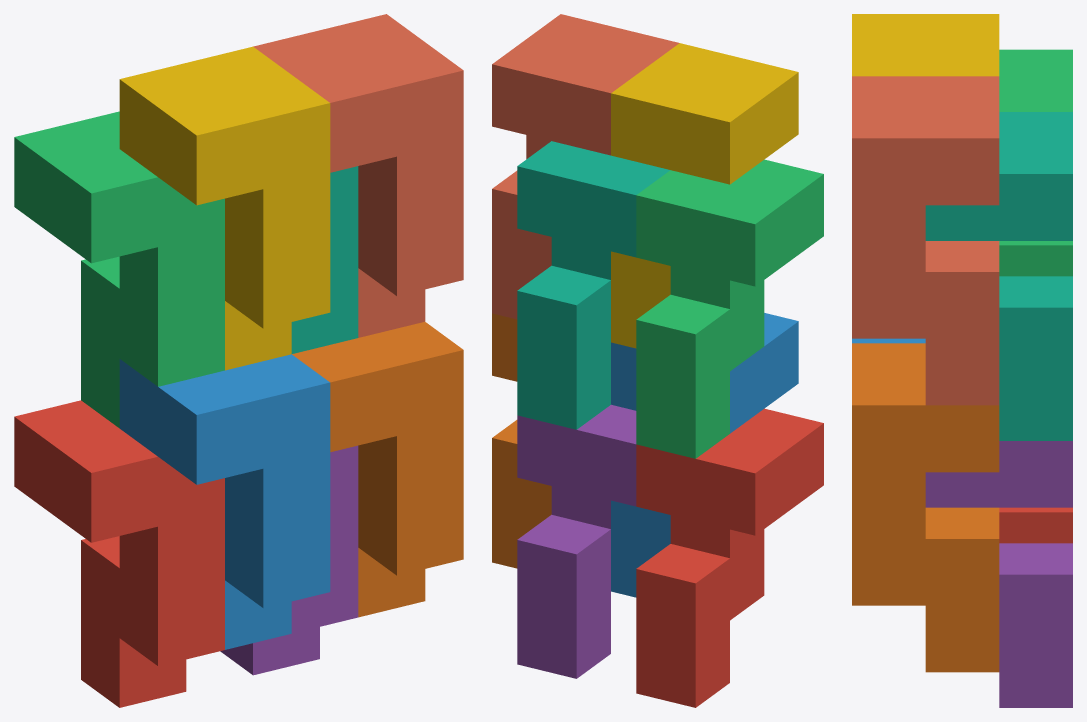
File: tiling.obj
The picture shows the model from 3 angles, left to right: view 1: azimuth 30°, elevation 25°; view 2: azimuth 150°, elevation 25°; view 3: azimuth 270°, elevation 25°; orthographic projection. The views are drawn at different scales.
Parts seen in each view (by area): view 1: copy_1_domain_4, copy_1_domain_1, copy_1_domain_3, copy_1_domain_2, copy_1_domain_8, copy_1_domain_6, copy_1_domain_5, copy_1_domain_7; view 2: copy_1_domain_3, copy_1_domain_1, copy_1_domain_7, copy_1_domain_5, copy_1_domain_4, copy_1_domain_8, copy_1_domain_2, copy_1_domain_6; view 3: copy_1_domain_8, copy_1_domain_6, copy_1_domain_7, copy_1_domain_5, copy_1_domain_4, copy_1_domain_3, copy_1_domain_1, copy_1_domain_2.
Boxes of the visible parts, <box> form: copy_1_domain_4: <box>119,46,330,370</box>; copy_1_domain_1: <box>14,400,224,707</box>; copy_1_domain_3: <box>14,111,224,428</box>; copy_1_domain_2: <box>119,354,330,649</box>; copy_1_domain_8: <box>253,14,463,337</box>; copy_1_domain_6: <box>292,322,463,617</box>; copy_1_domain_5: <box>220,445,358,675</box>; copy_1_domain_7: <box>291,166,358,353</box>; copy_1_domain_3: <box>636,159,823,458</box>; copy_1_domain_1: <box>636,408,823,707</box>; copy_1_domain_7: <box>517,141,670,429</box>; copy_1_domain_5: <box>517,404,636,678</box>; copy_1_domain_4: <box>611,43,798,348</box>; copy_1_domain_8: <box>492,14,679,319</box>; copy_1_domain_2: <box>611,313,798,597</box>; copy_1_domain_6: <box>492,313,551,568</box>; copy_1_domain_8: <box>852,76,999,405</box>; copy_1_domain_6: <box>852,343,999,672</box>; copy_1_domain_7: <box>925,112,1072,440</box>; copy_1_domain_5: <box>925,441,1072,707</box>; copy_1_domain_4: <box>852,14,999,76</box>; copy_1_domain_3: <box>999,49,1072,276</box>; copy_1_domain_1: <box>999,507,1072,543</box>; copy_1_domain_2: <box>852,338,925,343</box>.
Size of the model in its own units: 5 by 9 by 3.
